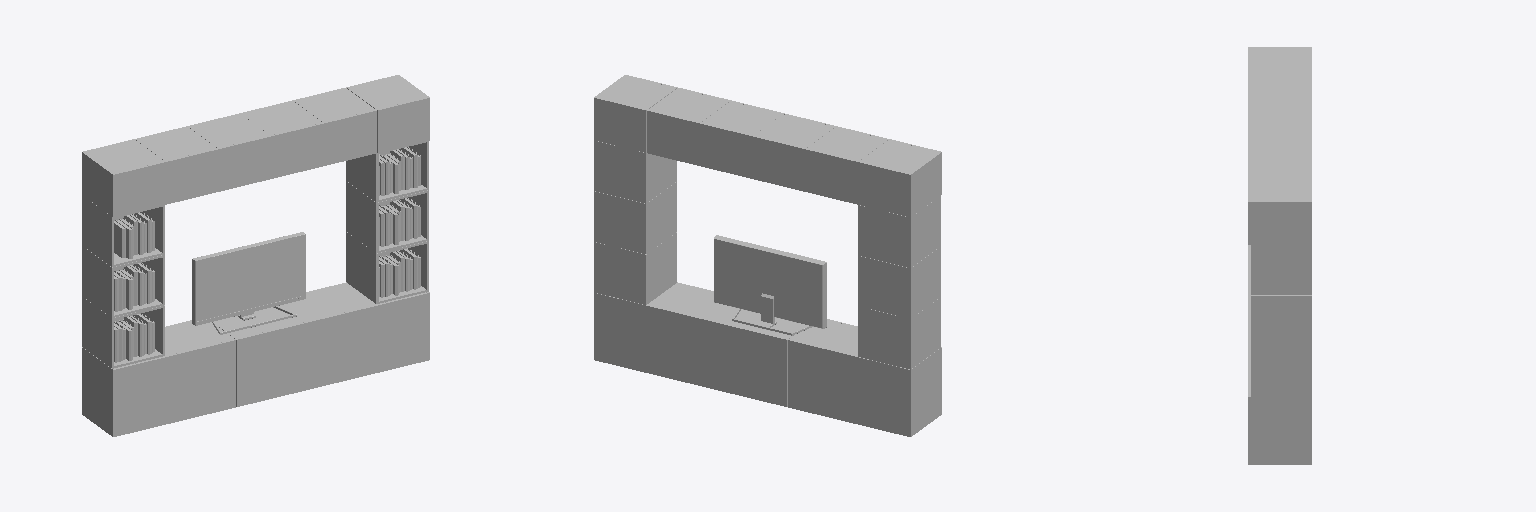
Rendered from Bookcase.obj.
3 renders of one model, left to right at view 1: azimuth 30°, elevation 25°; view 2: azimuth 150°, elevation 25°; view 3: azimuth 270°, elevation 25°, orthographic.
Visible parts, largest first — view 1: tv:silver; view 2: tv:silver; view 3: tv:silver.
Part boxes in pixels (left/top/right/bottom): tv:silver: left=82, top=75, right=429, bottom=436; tv:silver: left=594, top=75, right=941, bottom=436; tv:silver: left=1248, top=47, right=1311, bottom=464.
Size of the model in its own units: 2.51 by 1.99 by 0.4334.